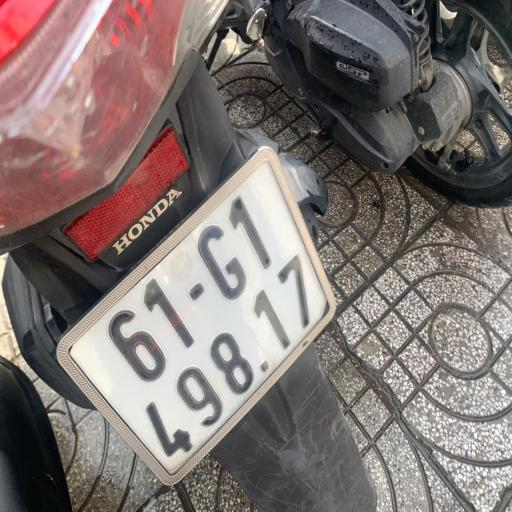1: (140, 272, 200, 359), (227, 196, 282, 275), (248, 281, 301, 362)
4: (128, 390, 202, 473)
6: (90, 298, 170, 386)
7: (275, 248, 327, 342)
8: (203, 323, 262, 401)
9: (176, 356, 229, 434)
G: (190, 219, 249, 312)
